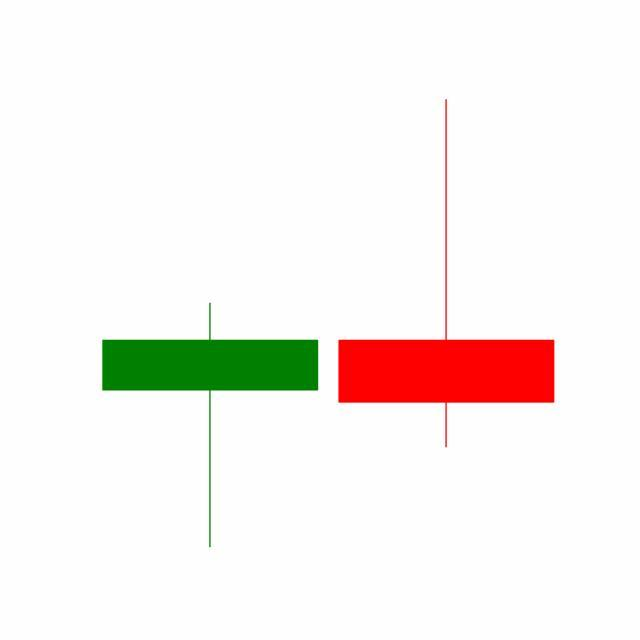Gravestone Doji: (328, 96, 566, 452)
